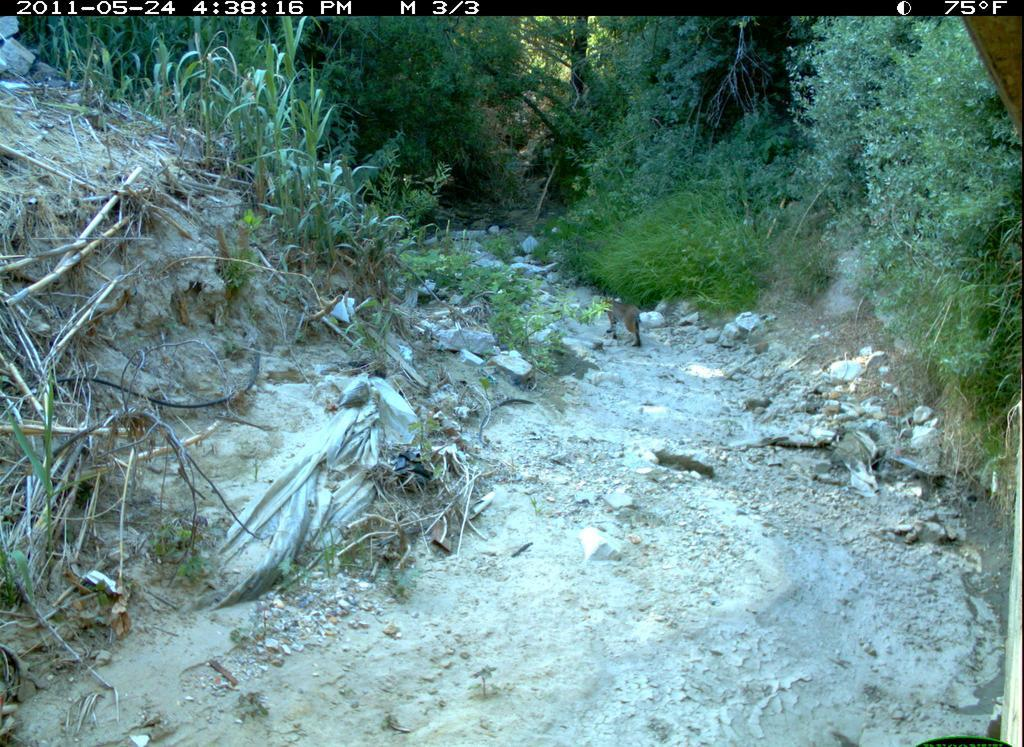bobcat: (598, 289, 658, 355)
